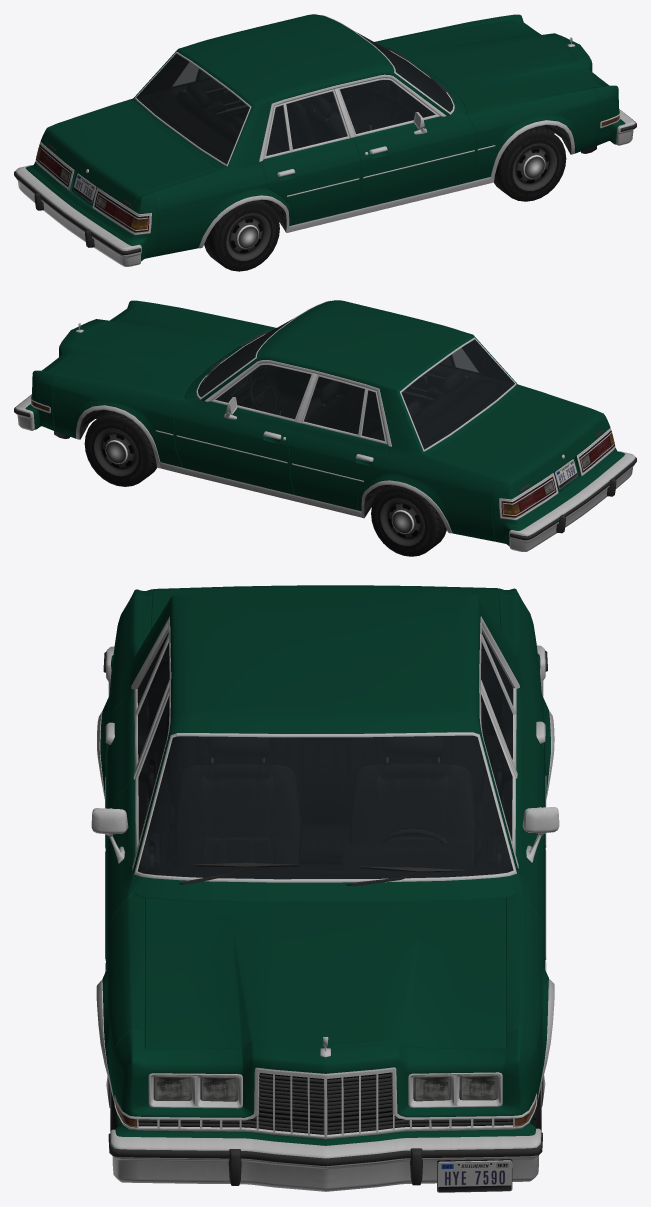
Rendered from negotiator_80_-_low_poly_model.glb.
The picture shows the model from 3 angles, top to bottom: view 1: azimuth 30°, elevation 25°; view 2: azimuth 150°, elevation 25°; view 3: azimuth 270°, elevation 25°; orthographic projection. The views are drawn at different scales.
Visible parts, largest first — view 1: Negotiator80_Body_Negotiator80_Bodymat_0, Negotiator80_Interior_UCB_Interiors_2_0, Negotiator80_Hood_Negotiator80_Bodymat_0, Negotiator80_bottom_UCB_BOTTOM_0, Negotiator80_Trunk_door_Negotiator80_Bodymat_0, Negotiator80_Glass_back_UCB_Lights_and_Glass_Transperent_0, Negotiator80_WheelStock_FR_RB1c_Tire_1k_0, Negotiator80_WheelStock_RR_RB1c_Tire_1k_0, Negotiator80_Bodyglass_UCB_Lights_and_Glass_Transperent_0, Negotiator80_Bumper_Rear_UCB_BOTTOM_0, Negotiator80_Glass_Passanger_UCB_Lights_and_Glass_Transperen, Negotiator80_Windshield_UCB_Lights_and_Glass_Transperent_0 (+4 smaller); view 2: Negotiator80_Body_Negotiator80_Bodymat_0, Negotiator80_Interior_UCB_Interiors_2_0, Negotiator80_Hood_Negotiator80_Bodymat_0, Negotiator80_bottom_UCB_BOTTOM_0, Negotiator80_Trunk_door_Negotiator80_Bodymat_0, Negotiator80_Glass_back_UCB_Lights_and_Glass_Transperent_0, Negotiator80_WheelStock_FL_RB1c_Tire_1k_0, Negotiator80_WheelStock_RL_RB1c_Tire_1k_0, Negotiator80_Bodyglass_UCB_Lights_and_Glass_Transperent_0, Negotiator80_Bumper_Rear_UCB_BOTTOM_0, Negotiator80_Glass_Driver_UCB_Lights_and_Glass_Transperent_0, Negotiator80_Windshield_UCB_Lights_and_Glass_Transperent_0 (+4 smaller); view 3: Negotiator80_Body_Negotiator80_Bodymat_0, Negotiator80_Hood_Negotiator80_Bodymat_0, Negotiator80_Interior_UCB_Interiors_2_0, Negotiator80_Windshield_UCB_Lights_and_Glass_Transperent_0, Negotiator80_bottom_UCB_BOTTOM_0, Negotiator80_Bumper_Front_UCB_BOTTOM_0, Negotiator80_Headlights_Glass_UCB_Lights_and_Glass_Transpere, Negotiator80_Headlights_UCB_Lights_and_Glass_0, Negotiator80_Bodyglass_UCB_Lights_and_Glass_Transperent_0, Negotiator80_Trunk_door_Negotiator80_Bodymat_0, Negotiator80_Numberplate_front_Numberplates_Misk_U_0, Negotiator80_Glass_Driver_UCB_Lights_and_Glass_Transperent_0 (+1 smaller).
Boxes of the visible parts, box(x1,y1,x2,y2) form: Negotiator80_Body_Negotiator80_Bodymat_0: box(26, 14, 625, 261); Negotiator80_Interior_UCB_Interiors_2_0: box(136, 45, 452, 163); Negotiator80_Hood_Negotiator80_Bodymat_0: box(378, 20, 601, 110); Negotiator80_bottom_UCB_BOTTOM_0: box(35, 15, 620, 248); Negotiator80_Trunk_door_Negotiator80_Bodymat_0: box(46, 103, 216, 209); Negotiator80_Glass_back_UCB_Lights_and_Glass_Transperent_0: box(136, 53, 249, 164); Negotiator80_WheelStock_FR_RB1c_Tire_1k_0: box(493, 125, 566, 201); Negotiator80_WheelStock_RR_RB1c_Tire_1k_0: box(204, 199, 279, 271); Negotiator80_Bodyglass_UCB_Lights_and_Glass_Transperent_0: box(200, 72, 346, 155); Negotiator80_Bumper_Rear_UCB_BOTTOM_0: box(14, 165, 141, 266); Negotiator80_Glass_Passanger_UCB_Lights_and_Glass_Transperen: box(340, 80, 435, 133); Negotiator80_Windshield_UCB_Lights_and_Glass_Transperent_0: box(357, 32, 453, 112); Negotiator80_Body_Negotiator80_Bodymat_0: box(25, 300, 625, 546); Negotiator80_Interior_UCB_Interiors_2_0: box(198, 331, 514, 448); Negotiator80_Hood_Negotiator80_Bodymat_0: box(49, 306, 272, 395); Negotiator80_bottom_UCB_BOTTOM_0: box(30, 300, 615, 533); Negotiator80_Trunk_door_Negotiator80_Bodymat_0: box(434, 389, 605, 494); Negotiator80_Glass_back_UCB_Lights_and_Glass_Transperent_0: box(401, 339, 514, 449); Negotiator80_WheelStock_FL_RB1c_Tire_1k_0: box(84, 410, 157, 486); Negotiator80_WheelStock_RL_RB1c_Tire_1k_0: box(371, 485, 446, 556); Negotiator80_Bodyglass_UCB_Lights_and_Glass_Transperent_0: box(304, 357, 451, 441); Negotiator80_Bumper_Rear_UCB_BOTTOM_0: box(509, 451, 636, 551); Negotiator80_Glass_Driver_UCB_Lights_and_Glass_Transperent_0: box(215, 365, 311, 418); Negotiator80_Windshield_UCB_Lights_and_Glass_Transperent_0: box(197, 318, 293, 397); Negotiator80_Body_Negotiator80_Bodymat_0: box(100, 588, 550, 1145); Negotiator80_Hood_Negotiator80_Bodymat_0: box(144, 897, 506, 1048); Negotiator80_Interior_UCB_Interiors_2_0: box(137, 652, 512, 878); Negotiator80_Windshield_UCB_Lights_and_Glass_Transperent_0: box(137, 735, 513, 879); Negotiator80_bottom_UCB_BOTTOM_0: box(91, 616, 559, 1139); Negotiator80_Bumper_Front_UCB_BOTTOM_0: box(108, 1128, 542, 1191); Negotiator80_Headlights_Glass_UCB_Lights_and_Glass_Transpere: box(115, 1074, 535, 1127); Negotiator80_Headlights_UCB_Lights_and_Glass_0: box(154, 1075, 496, 1100); Negotiator80_Bodyglass_UCB_Lights_and_Glass_Transperent_0: box(137, 632, 513, 760); Negotiator80_Trunk_door_Negotiator80_Bodymat_0: box(150, 585, 500, 630); Negotiator80_Numberplate_front_Numberplates_Misk_U_0: box(437, 1160, 512, 1192); Negotiator80_Glass_Driver_UCB_Lights_and_Glass_Transperent_0: box(481, 694, 512, 841).
Bounding box in the file's own units: 4.94 × 1.39 × 1.87.
8 materials, 7 textured.
